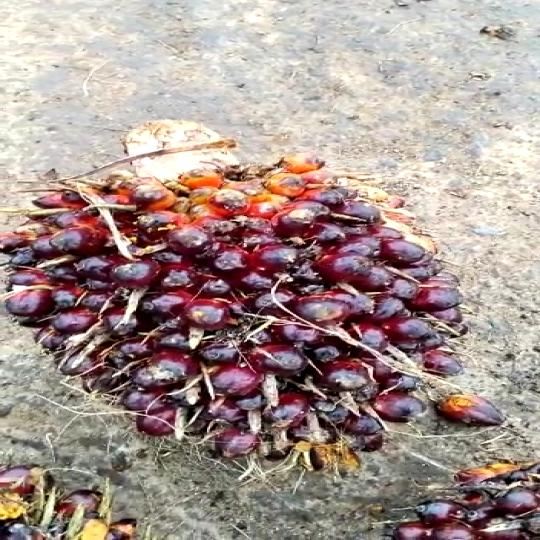kurang masak: (0, 98, 540, 471)
